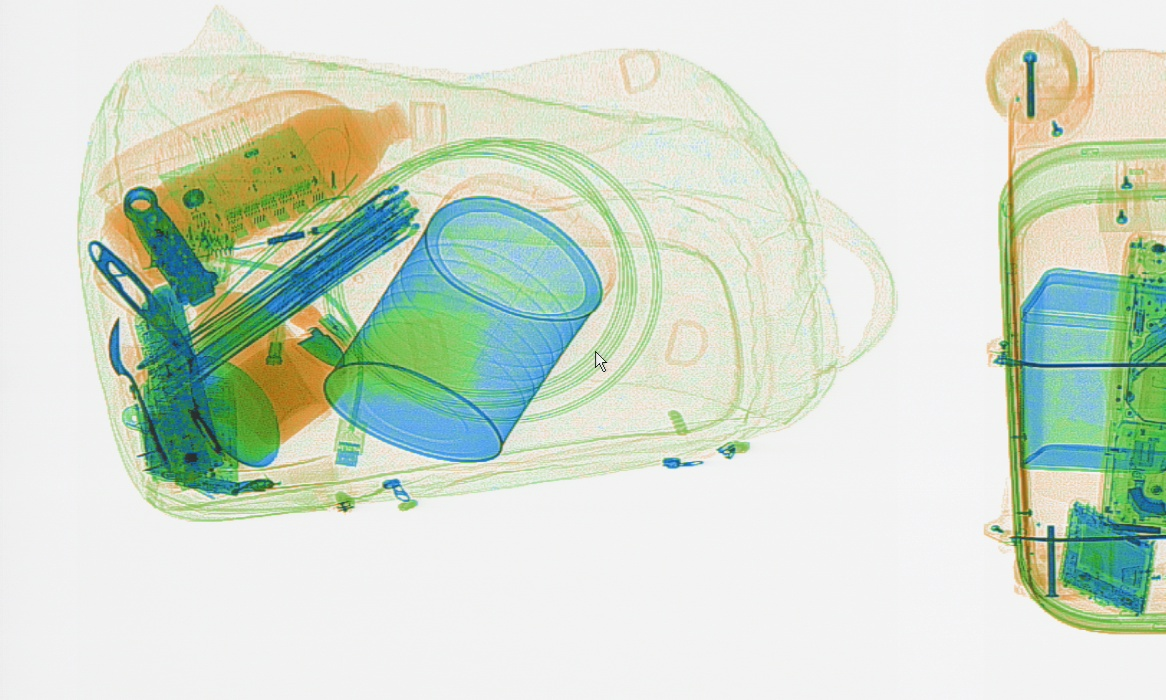knife: (122, 181, 219, 306)
